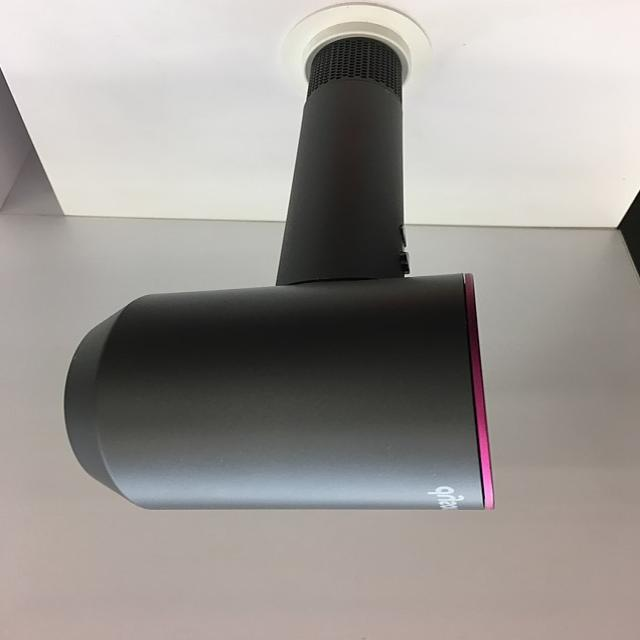dryer: (64, 36, 495, 512)
